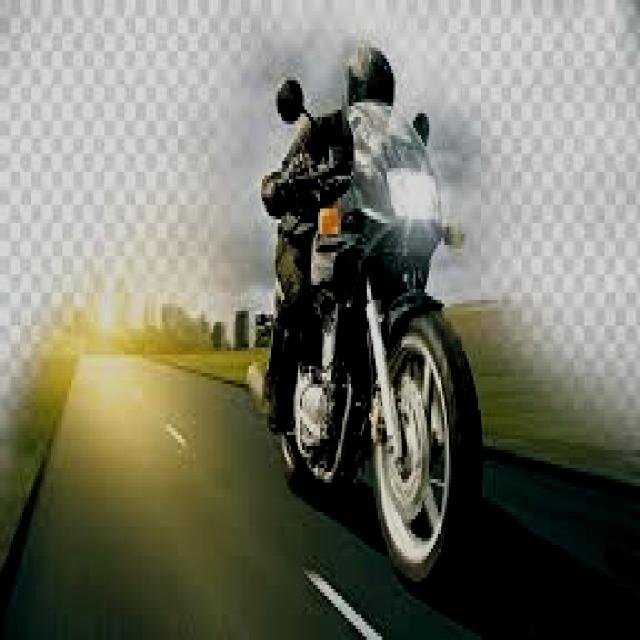MOTORCYCLE: (254, 162, 462, 604)
